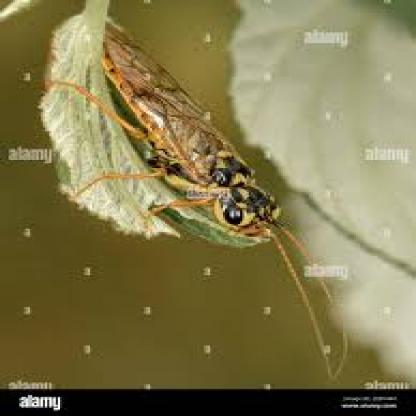sawfly: (50, 8, 331, 309)
